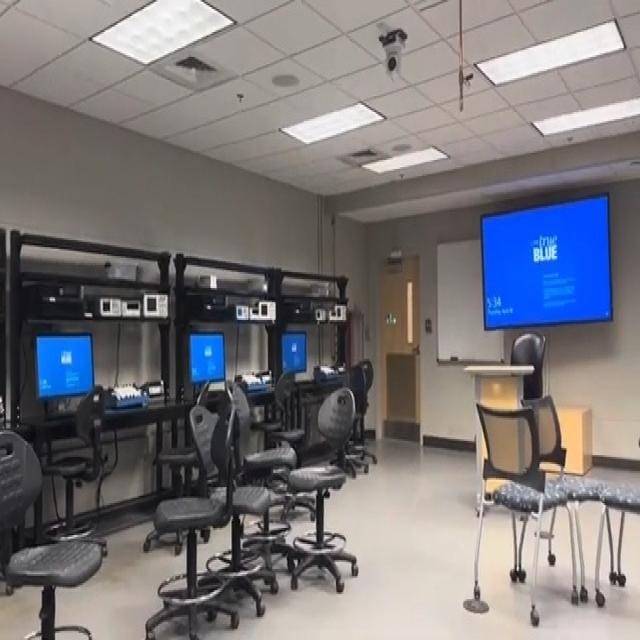drone: (377, 301, 403, 337)
